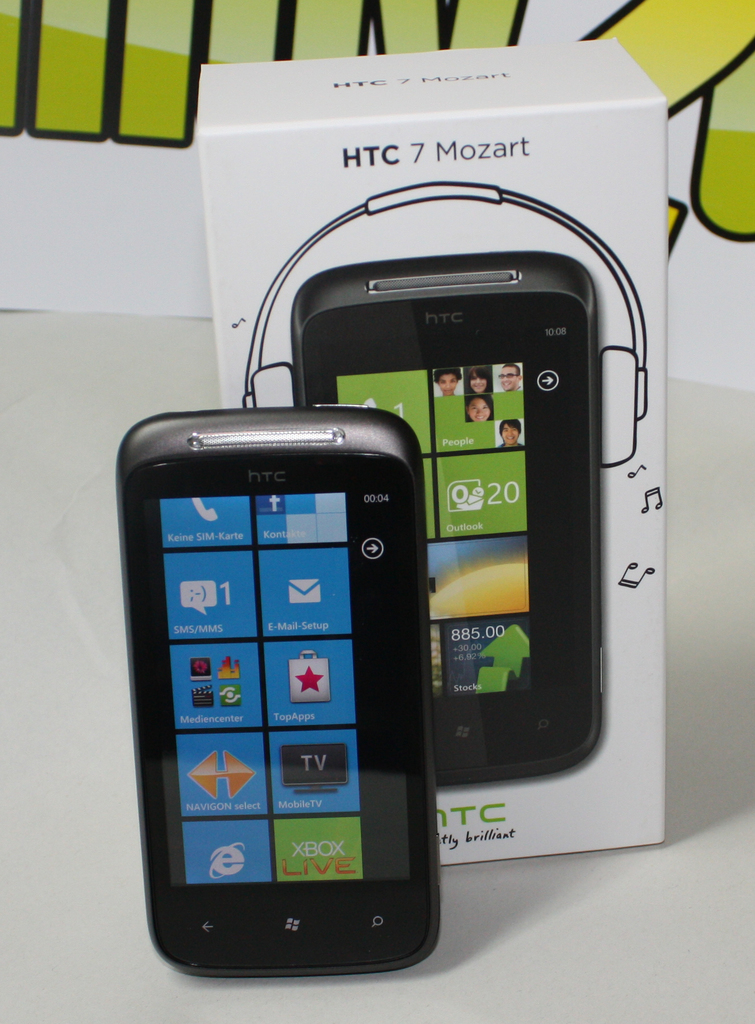mobile phone: (111, 408, 442, 975)
